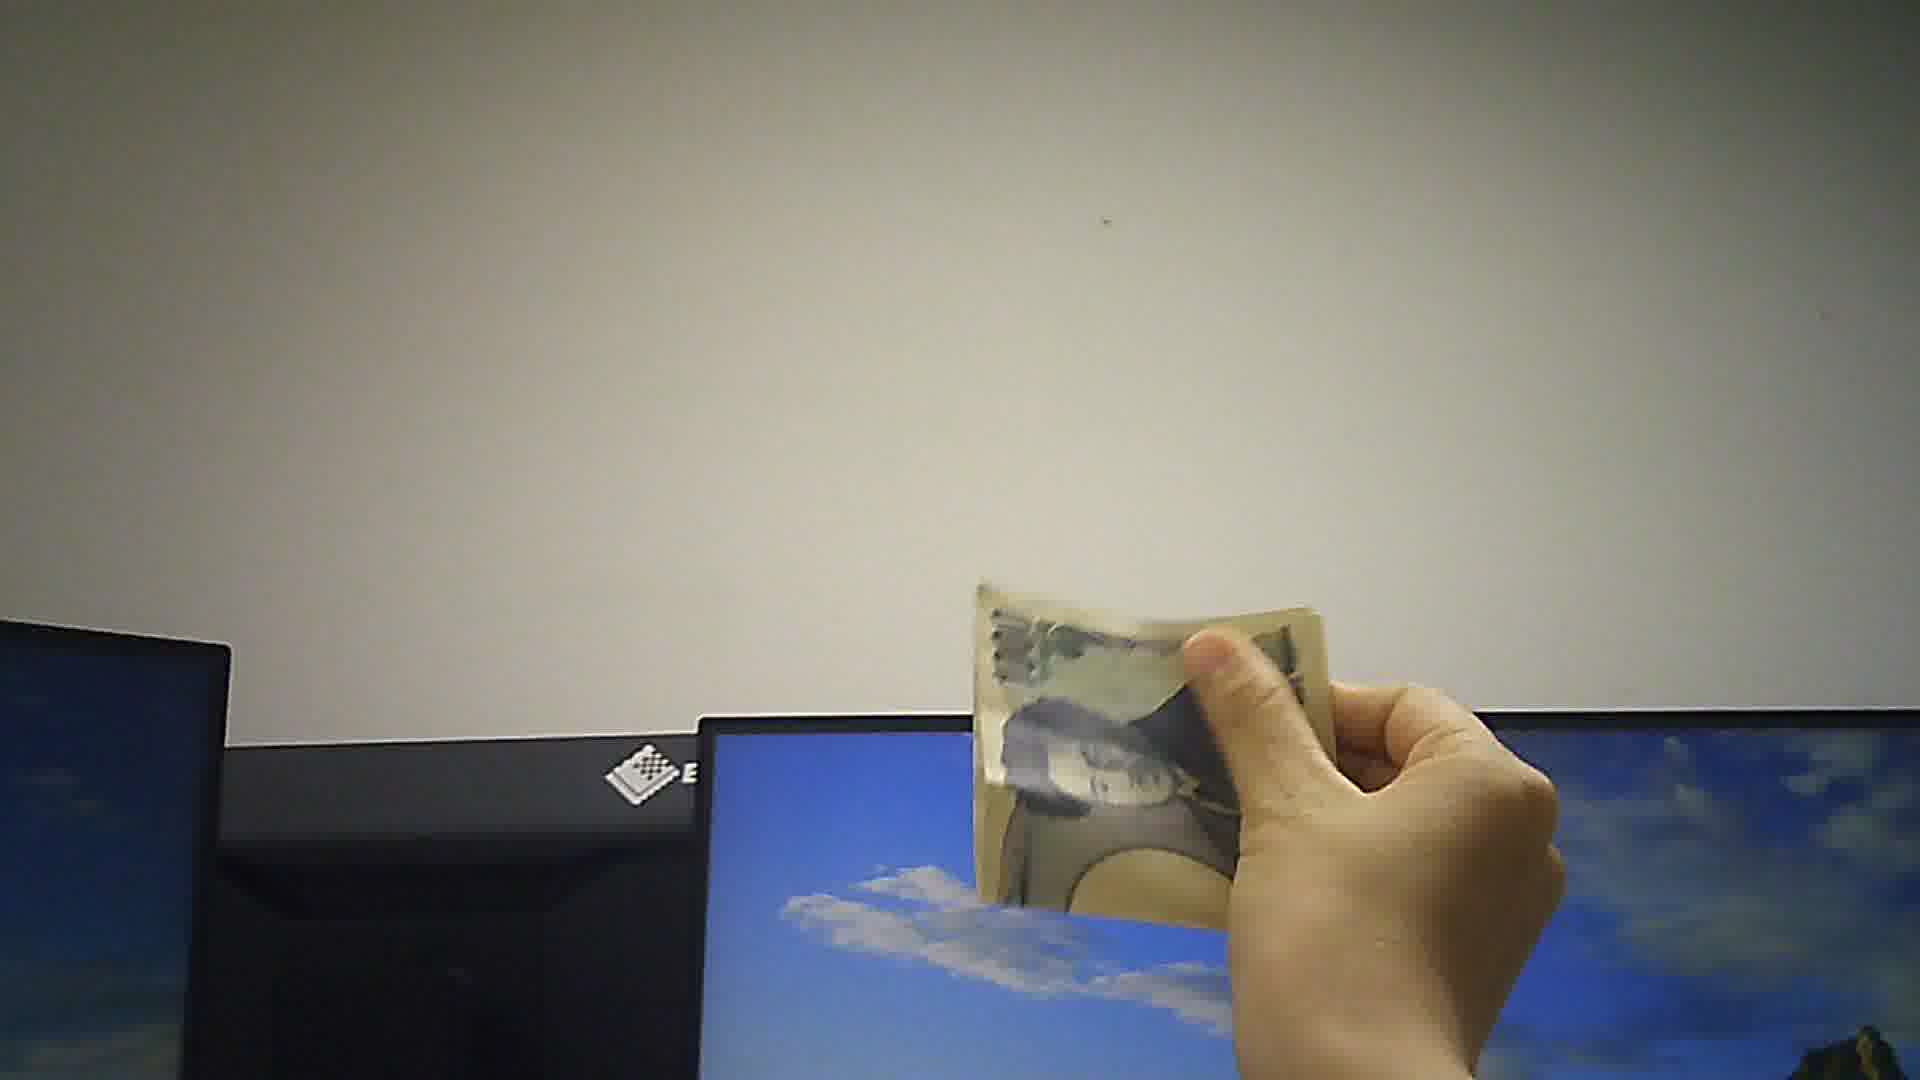1,000 Yen: (957, 564, 1373, 956)
